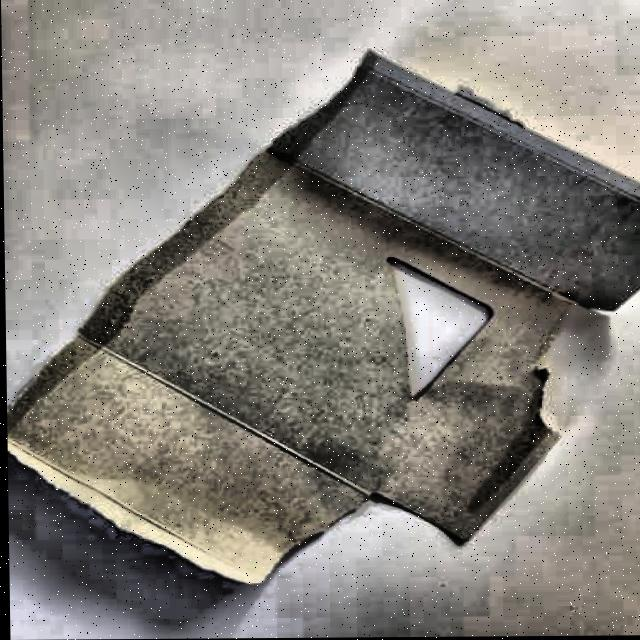paper: (1, 47, 640, 586)
